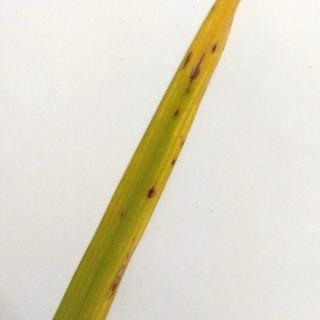bercak-Cokelat: (174, 50, 193, 70), (208, 43, 223, 63), (171, 105, 184, 126), (167, 153, 180, 172), (143, 185, 161, 198)
